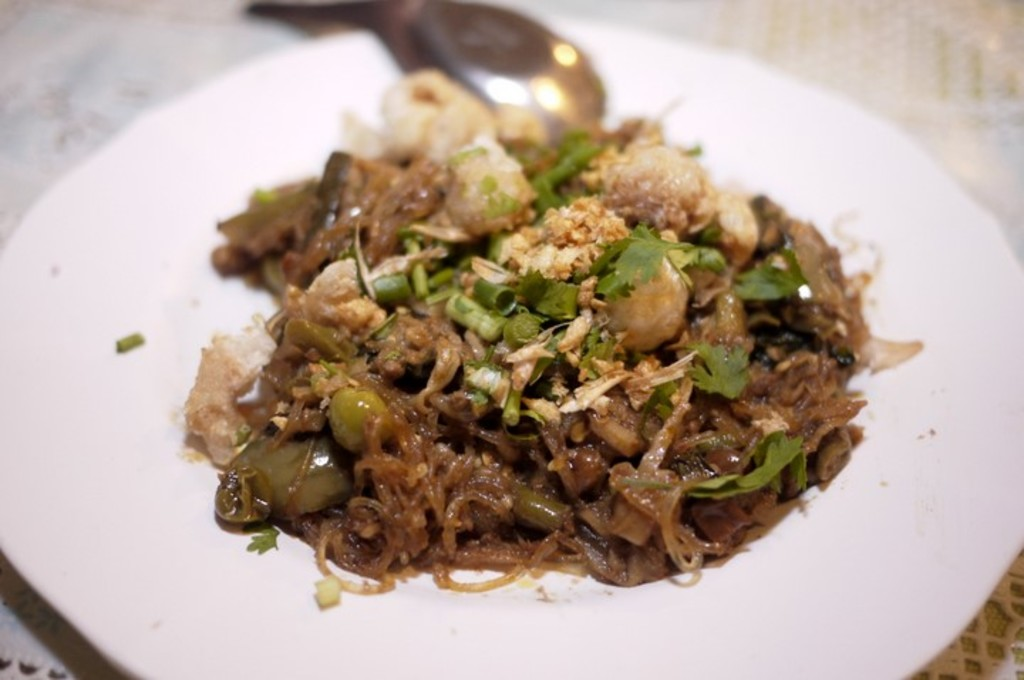salad: (155, 57, 914, 602)
